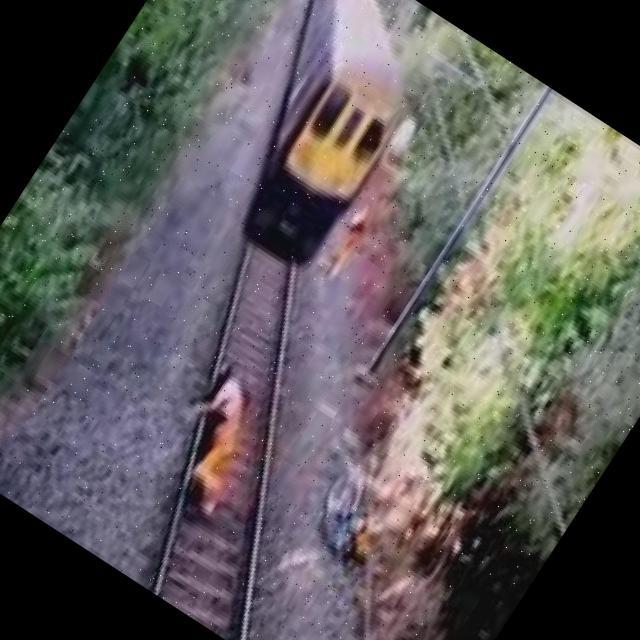person: (120, 324, 294, 541), (302, 163, 410, 301)
